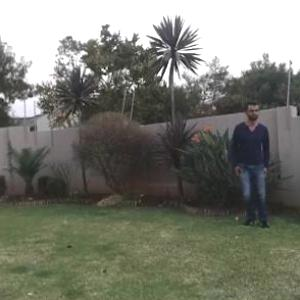follow: (232, 96, 272, 235)
